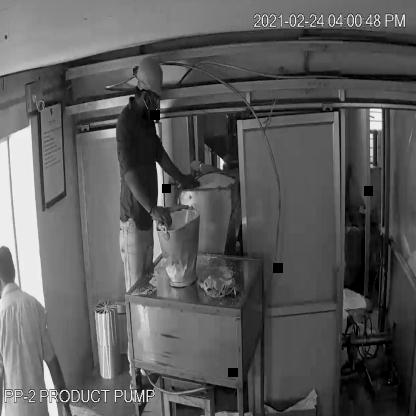helmet: (132, 53, 170, 106)
